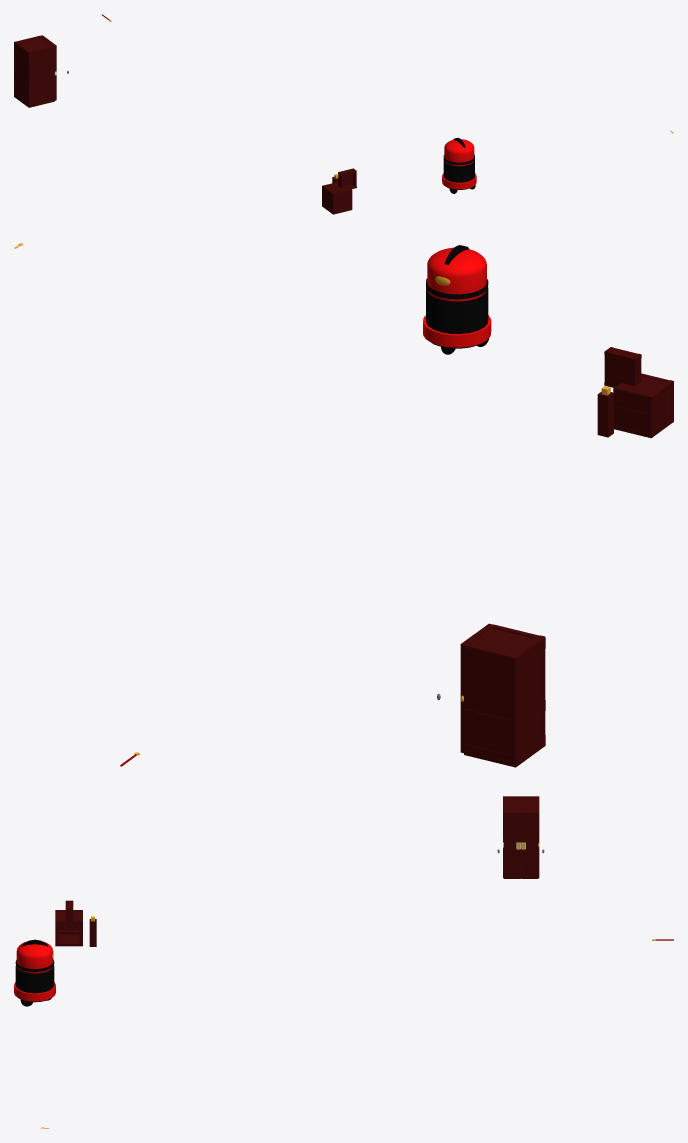
File: ____INTERACTABLESMESHES.fbx
3 renders of one model, top to bottom at view 1: azimuth 30°, elevation 25°; view 2: azimuth 150°, elevation 25°; view 3: azimuth 270°, elevation 25°, orthographic. The views are drawn at different scales.
Parts seen in each view (by area): view 1: side (1)_3, back_3, headMesh, bodyMesh, top_1, side (1); view 2: side (0)_3, back_3, headMesh, bodyMesh, top_1, side (0), base_2, back, bottom_3, shelf, bottomMesh; view 3: door, door_1, headMesh, bodyMesh.
Part boxes in pixels (bbox=[...]): side (1)_3: bbox=[27, 45, 54, 106]; back_3: bbox=[15, 41, 31, 107]; headMesh: bbox=[444, 139, 474, 166]; bodyMesh: bbox=[443, 159, 474, 189]; top_1: bbox=[14, 37, 54, 58]; side (1): bbox=[331, 188, 352, 213]; side (0)_3: bbox=[464, 643, 518, 765]; back_3: bbox=[510, 635, 545, 766]; headMesh: bbox=[427, 247, 486, 301]; bodyMesh: bbox=[426, 287, 488, 348]; top_1: bbox=[464, 628, 545, 670]; side (0): bbox=[613, 386, 654, 437]; base_2: bbox=[423, 315, 491, 347]; back: bbox=[647, 380, 673, 437]; bottom_3: bbox=[464, 735, 545, 767]; shelf: bbox=[464, 700, 545, 732]; bottomMesh: bbox=[605, 352, 634, 386]; door: bbox=[521, 811, 538, 878]; door_1: bbox=[504, 811, 520, 878]; headMesh: bbox=[16, 941, 53, 973]; bodyMesh: bbox=[15, 965, 54, 1002].
Size of what is drawn, in the model's own units: 1745 by 205 by 1806.
